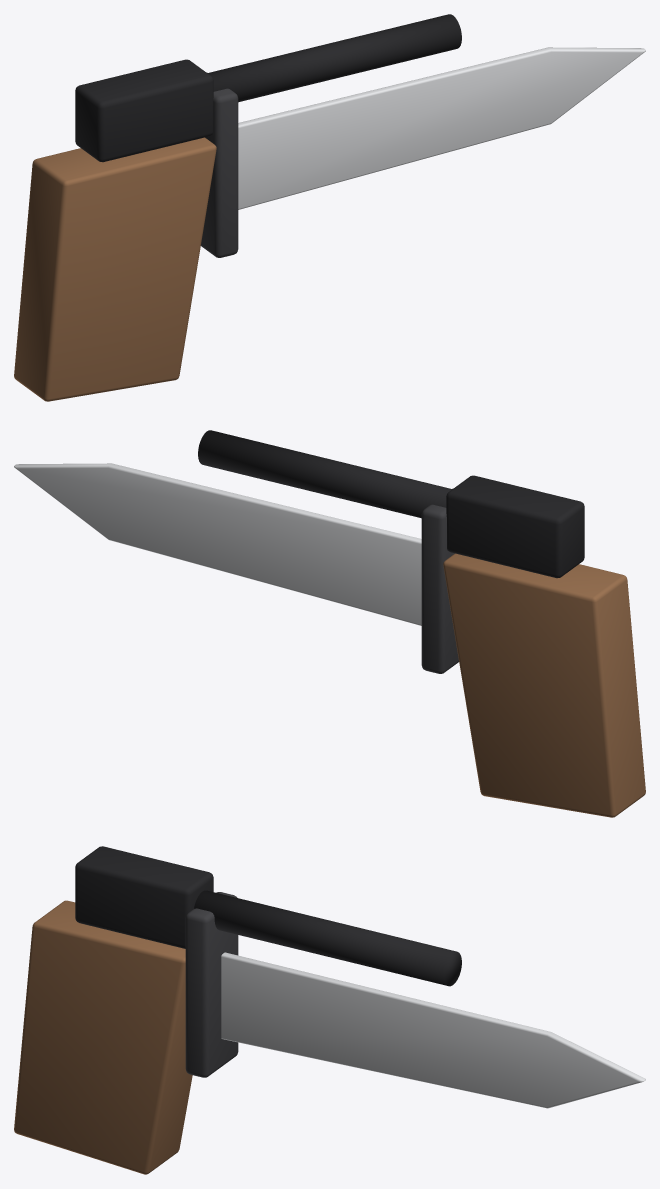
The model's file is SM_PistolKnife.glb.
The picture shows the model from 3 angles, top to bottom: view 1: azimuth 30°, elevation 25°; view 2: azimuth 150°, elevation 25°; view 3: azimuth 330°, elevation 25°; orthographic projection.
Parts seen in each view (by area): view 1: SM_PistolKnife; view 2: SM_PistolKnife; view 3: SM_PistolKnife.
Boxes of the visible parts, x1,y1,x2,y2 form: SM_PistolKnife: [14, 14, 645, 401]; SM_PistolKnife: [14, 430, 645, 817]; SM_PistolKnife: [14, 846, 645, 1174].
Bounding box in the file's own units: 0.3192 × 0.1449 × 0.03.
